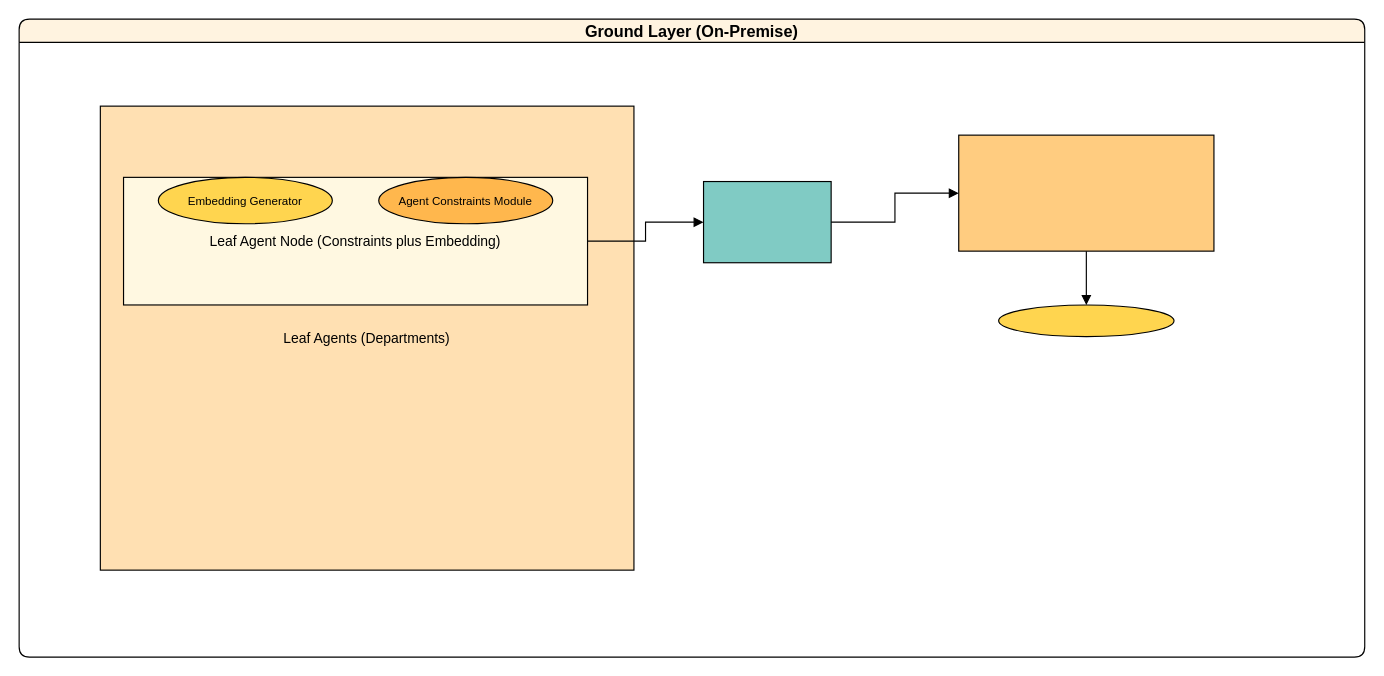
This 1384x676 diagram has some shape labels left out. The centre of each missing label's shape, as x and y in pixels:
"Local Firestore DB" belongs at pixel 1085 320.
"Main Agent Node" belongs at pixel 1086 192.
"MCP Server (Protocol Routing and Validation)" belongs at pixel 766 221.
